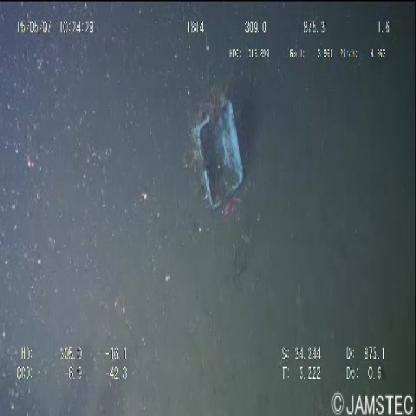Rác: (185, 86, 251, 222)
